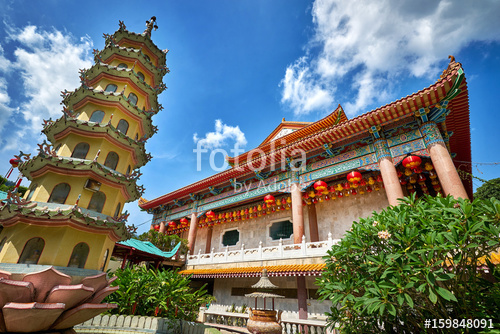Buddhist Temple: (170, 89, 460, 255), (28, 11, 155, 272)
